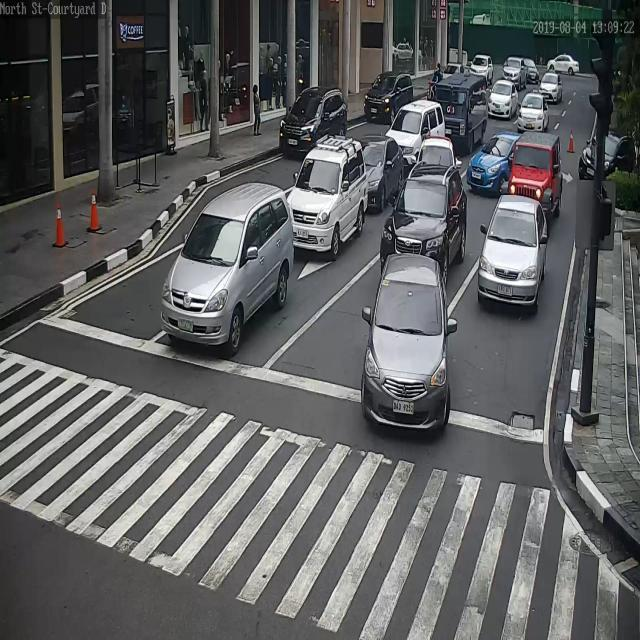bus: (434, 72, 489, 156)
car: (159, 183, 296, 358), (360, 251, 450, 434), (380, 159, 468, 273), (285, 139, 368, 257), (475, 196, 549, 310), (278, 88, 348, 162), (386, 98, 447, 162), (357, 136, 406, 214), (466, 134, 519, 197), (578, 127, 637, 183), (361, 71, 414, 125), (410, 136, 461, 167), (517, 92, 550, 134), (488, 78, 518, 120), (546, 49, 580, 74), (469, 53, 494, 86), (503, 57, 528, 90), (539, 73, 563, 102), (440, 62, 465, 80), (524, 57, 540, 83)
jeepney: (428, 64, 443, 101)
tricycle: (508, 135, 563, 214)
